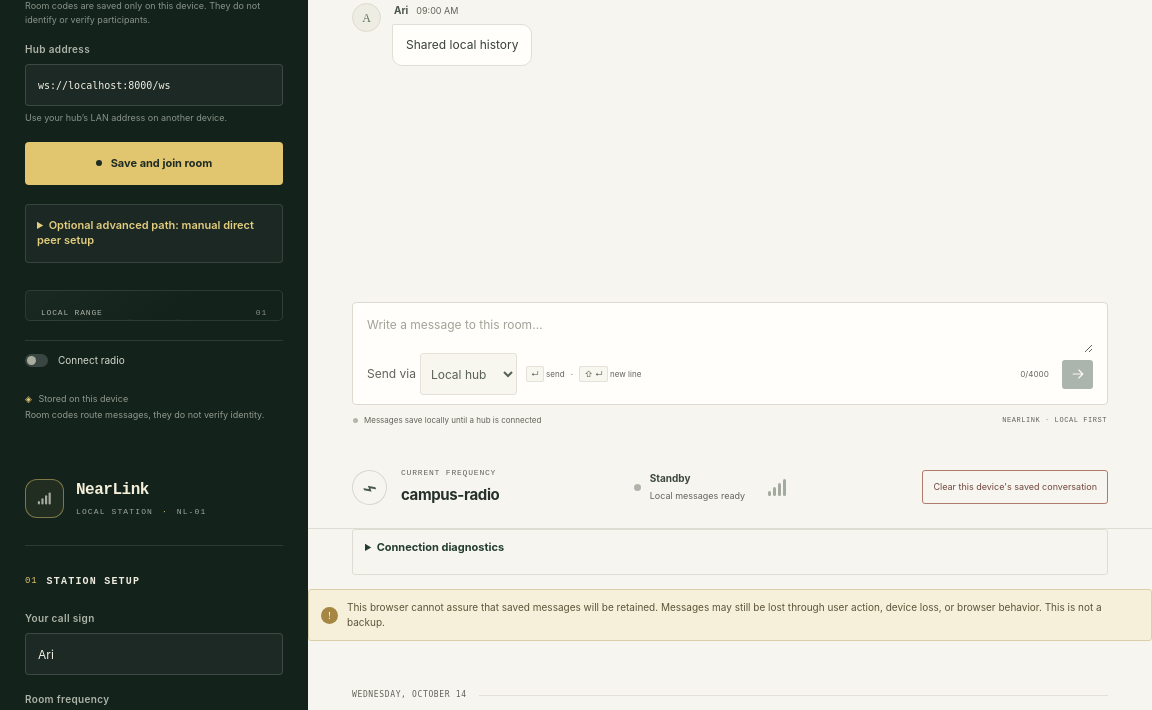
Test: browser app messaging flow › notifies another open tab and blocks its stale replay from restoring the cleared room
The width and height of the screenshot is (1152, 710).
(page scrolled)
Click the button "Connect radio".
click(154, 360)  # box [25, 340, 283, 380]
(page scrolled)
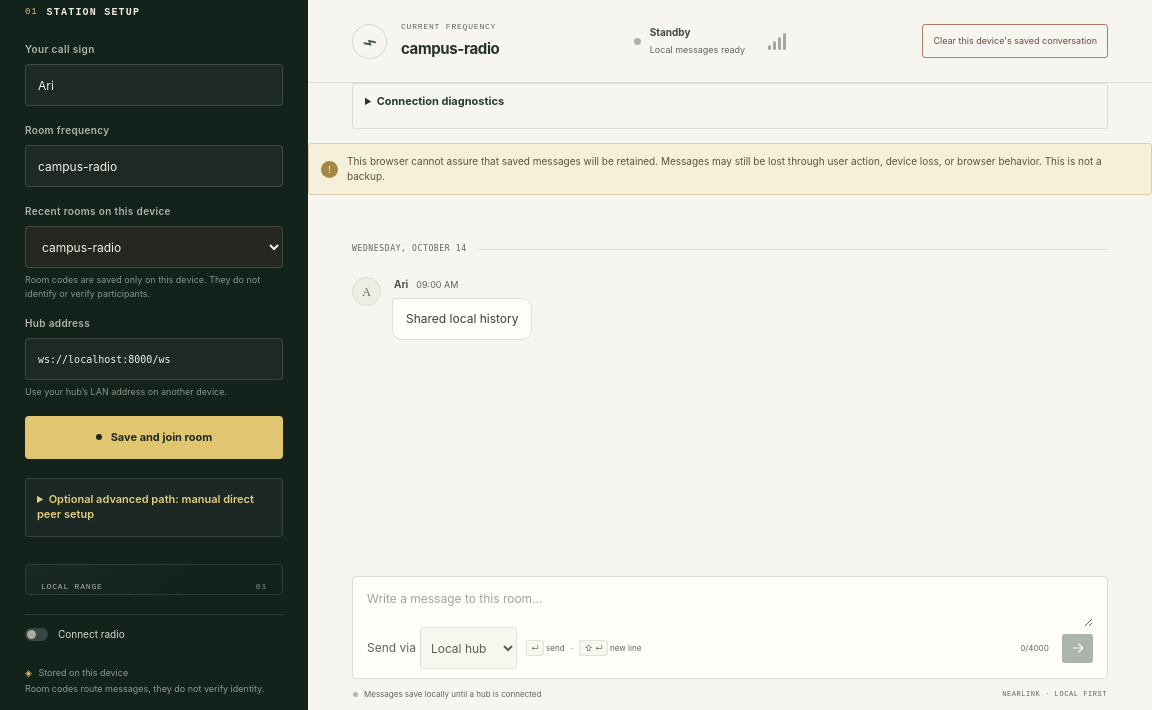
Click the button "Connect radio".
click(154, 634)  # box [25, 614, 283, 654]
(page scrolled)
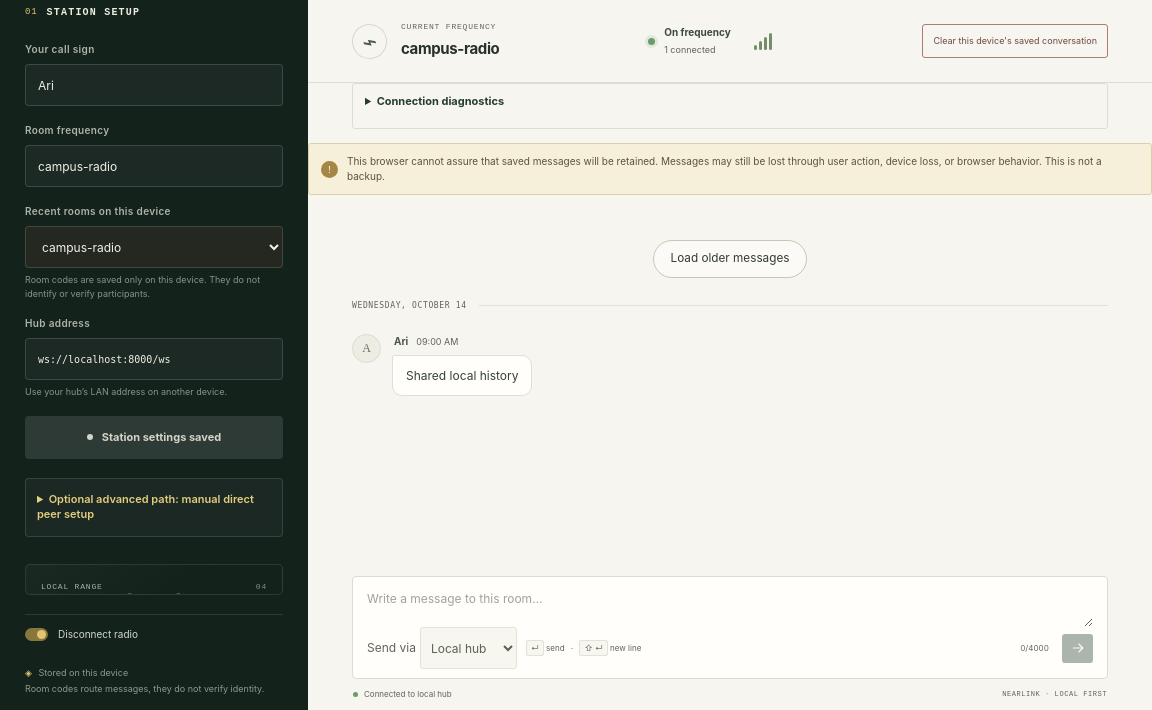
Click the button "Clear this device's saved conversation".
click(1015, 41)  # box [922, 24, 1108, 58]
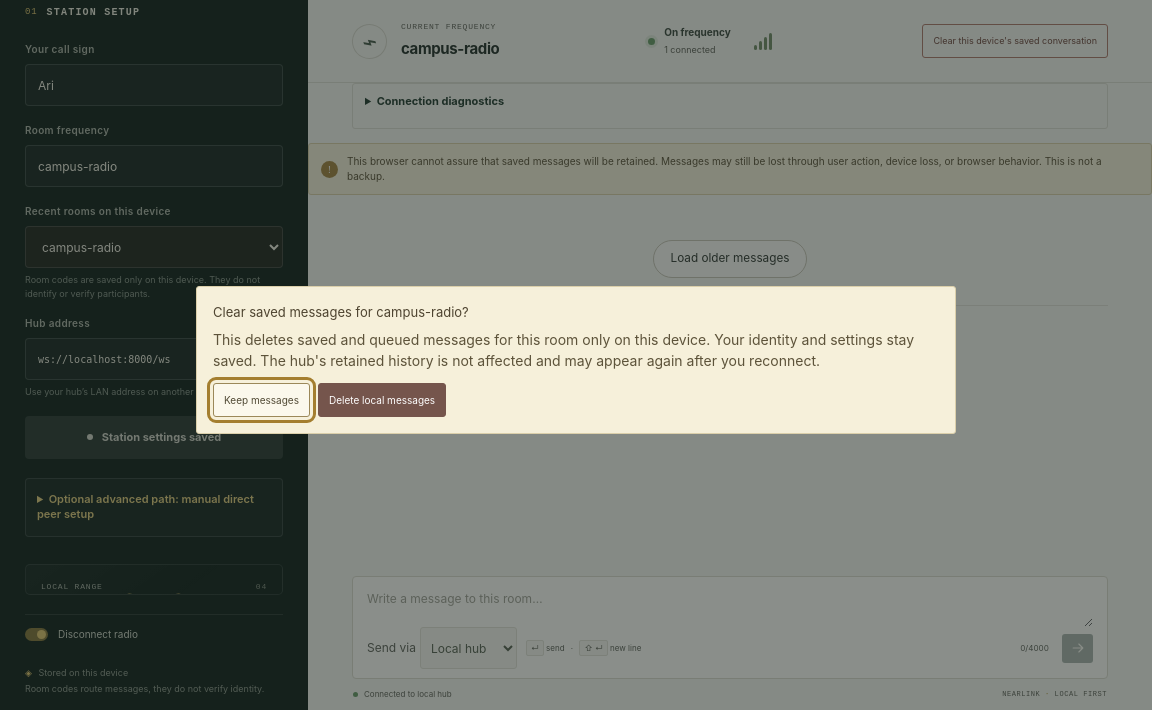
Click the button "Delete local messages".
click(382, 400)  # box [318, 383, 446, 417]
(page scrolled)
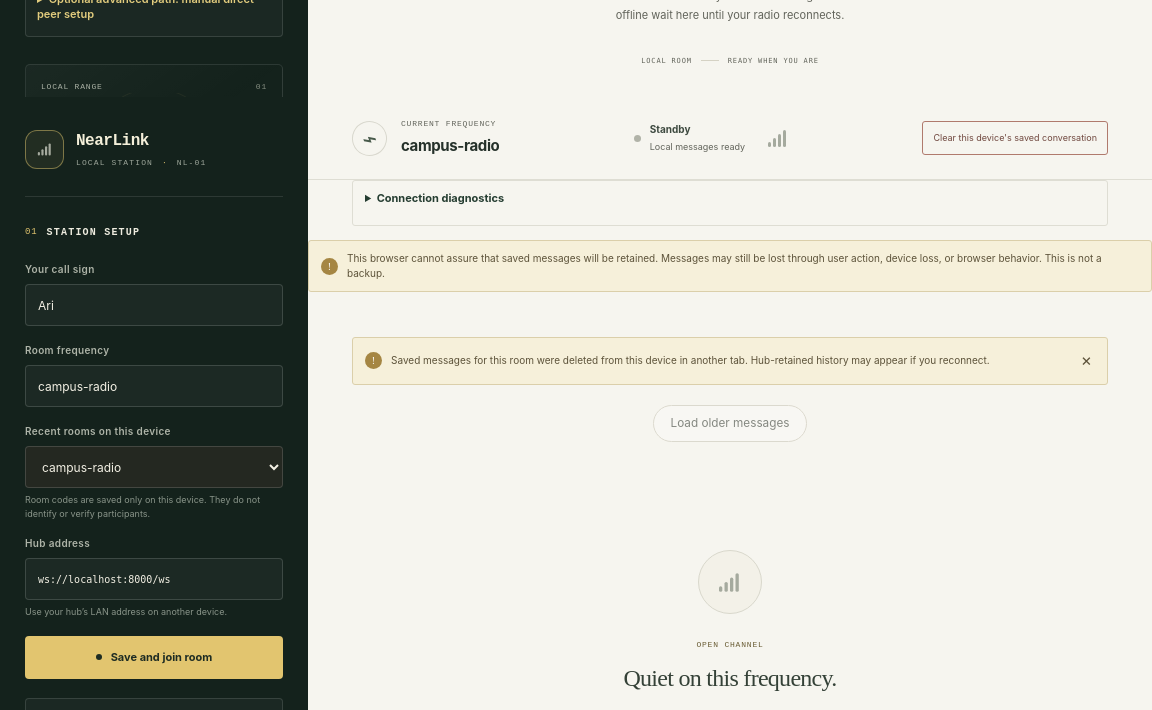
Now the text "deleted from this device in another tab" is shown, box [391, 354, 990, 366]
Now the text "Shared local history" is gone
